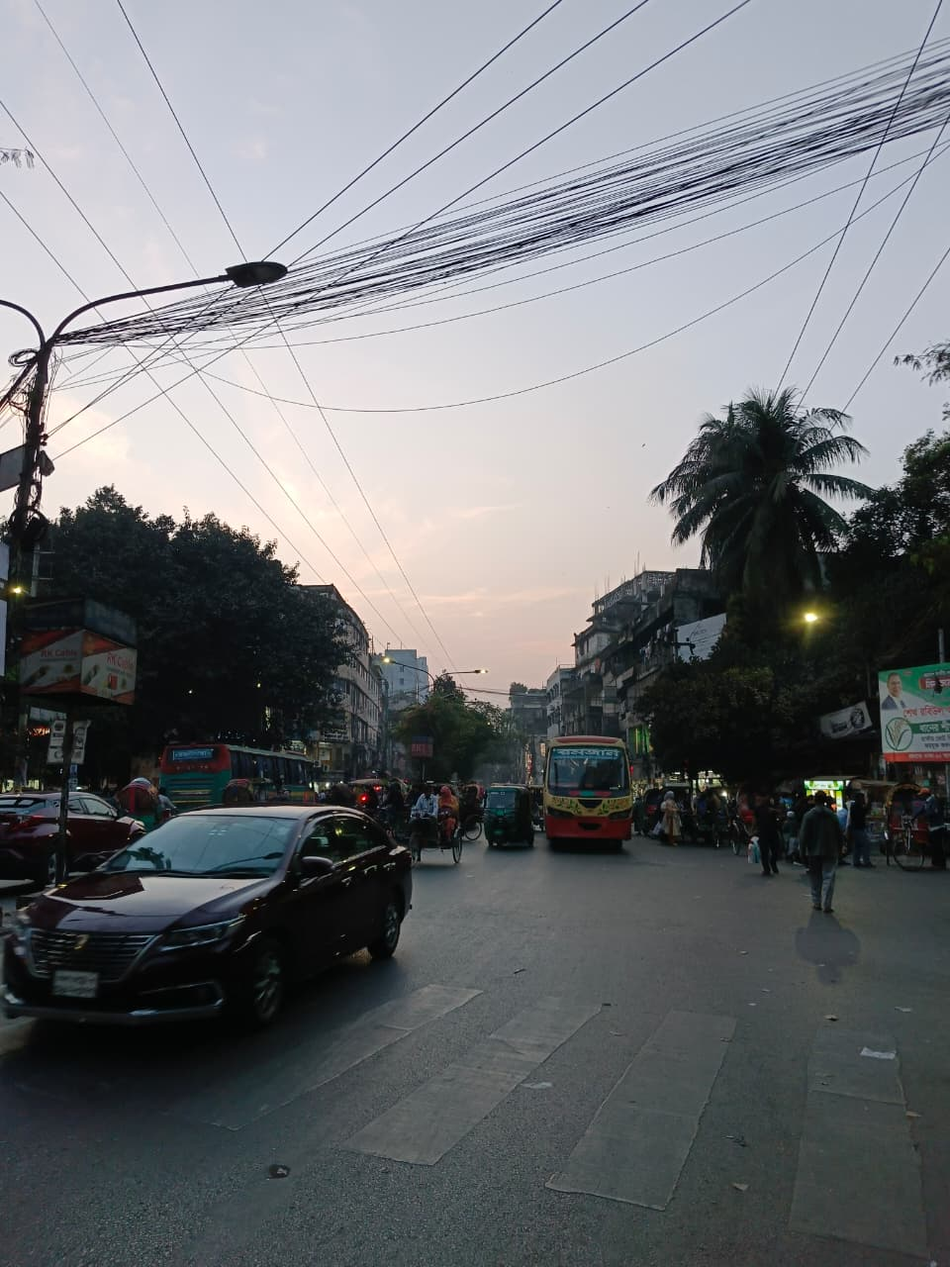Bus: (517, 718, 673, 862)
auto-ricksaw: (379, 748, 487, 874)
cng: (478, 745, 542, 886)
private car: (0, 745, 479, 1101)
